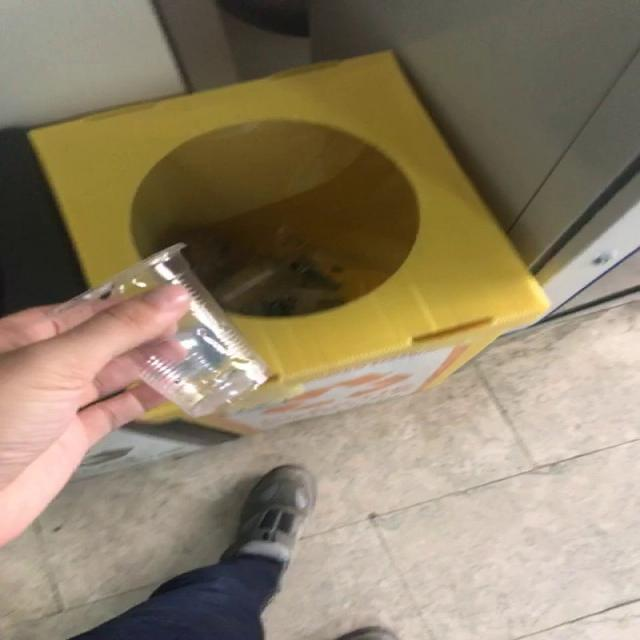plastic: (57, 243, 269, 418)
